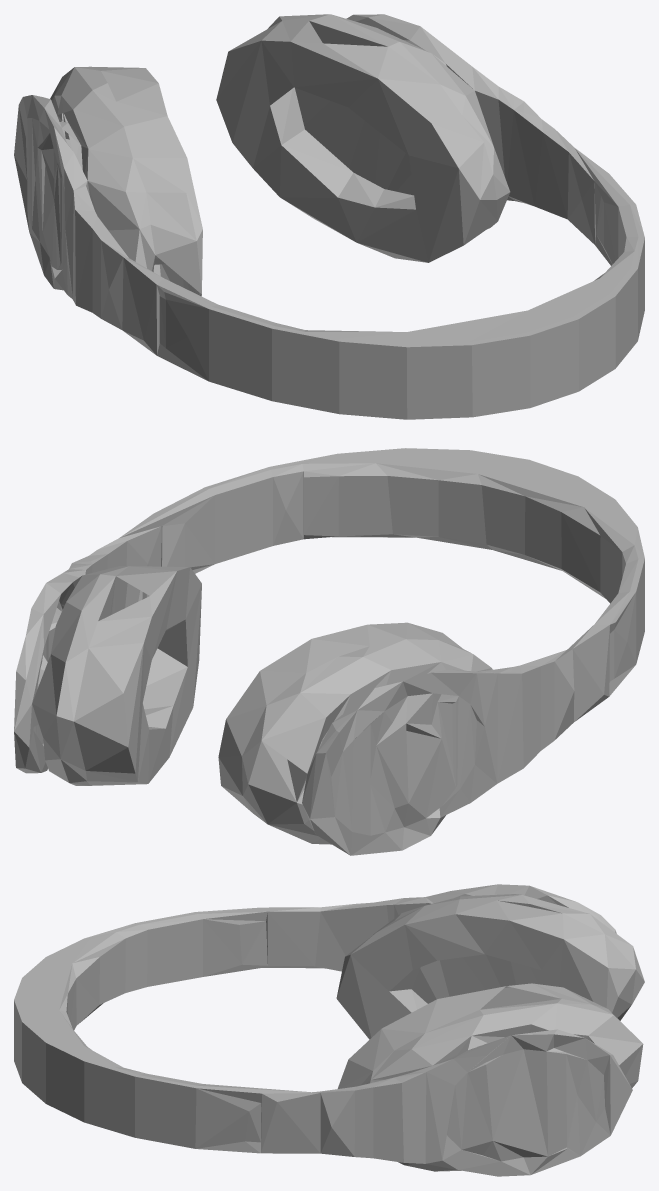
Rendered from model_align.obj.
3 views of the same model, one above another, from view 1: azimuth 30°, elevation 25°; view 2: azimuth 150°, elevation 25°; view 3: azimuth 270°, elevation 25° (orthographic). The views are drawn at different scales.
Size of the model in its own units: 0.1186 by 0.046 by 0.165.
Materials: 9 (9 with a texture image).
